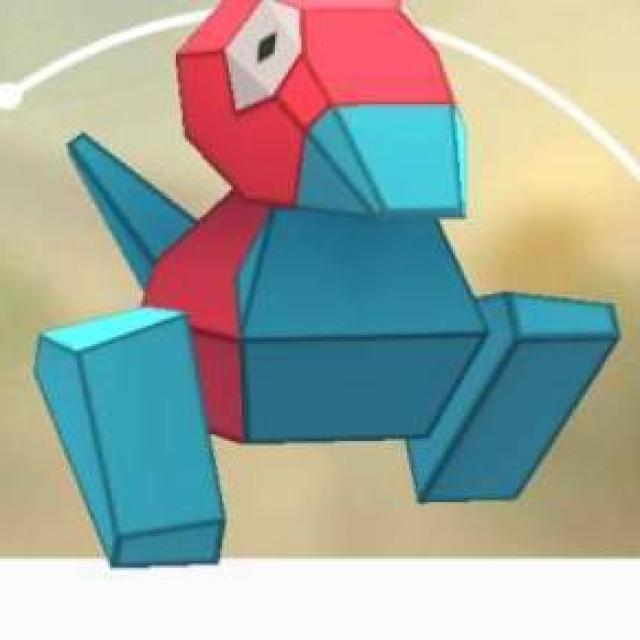Porygon: (123, 0, 522, 496)
